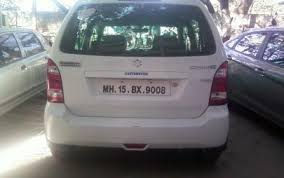numberplate: (99, 79, 171, 96)
